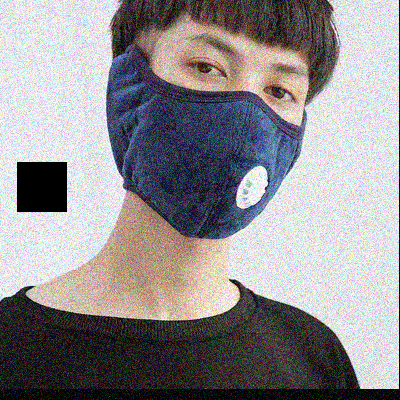with_mask: (141, 28, 307, 246)
